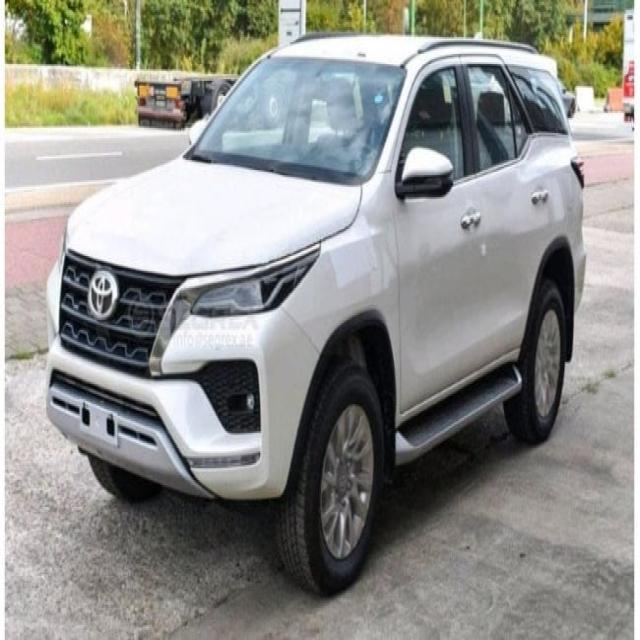light_vehicle: (44, 32, 588, 596)
